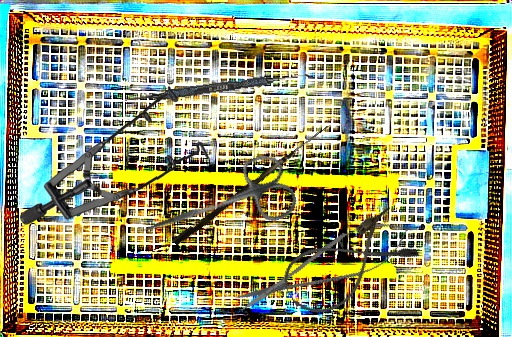Cannula: (274, 203, 422, 325)
Hook Surgical: (172, 118, 329, 249)
Iris Scissors: (132, 149, 301, 265)
Micro Scissor: (226, 205, 421, 328)
Spatula Surgical: (124, 67, 314, 108)
Speculum: (17, 79, 212, 233)
